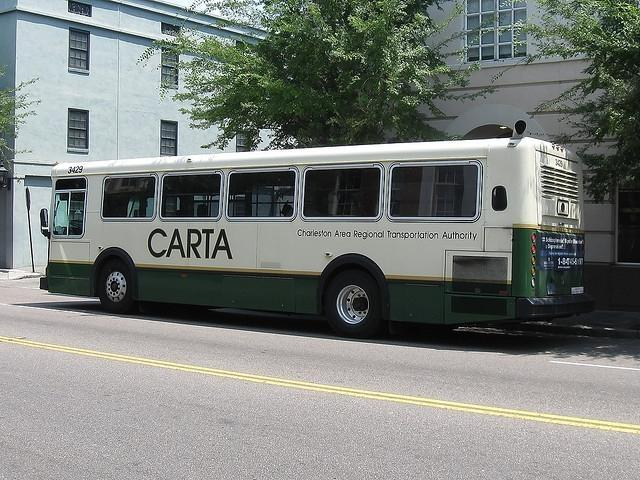bus: (35, 118, 592, 336)
